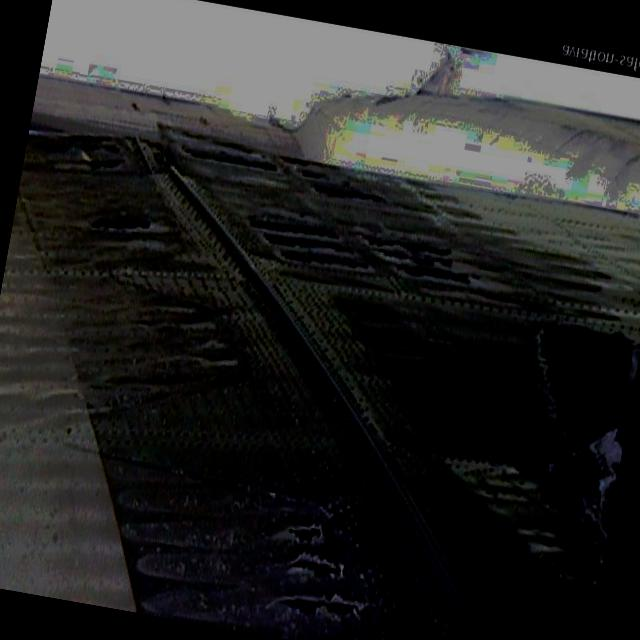crack: (260, 510, 390, 638)
